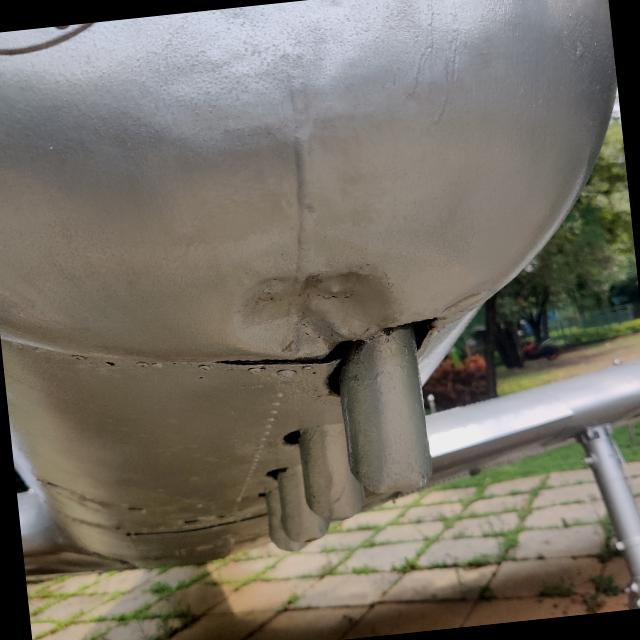dent: (232, 258, 408, 378)
